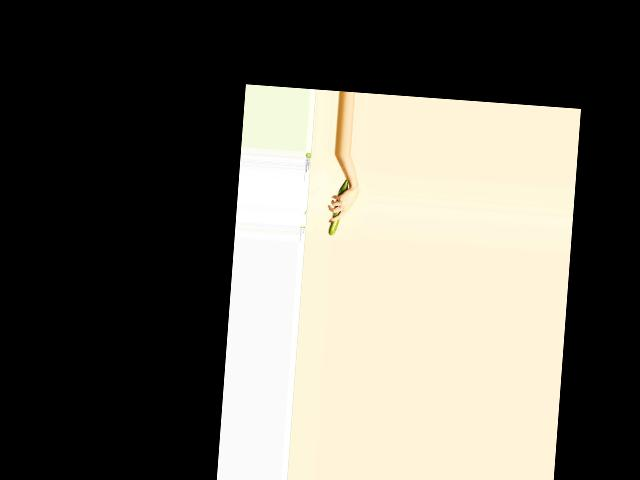cucumber: (327, 177, 348, 236)
